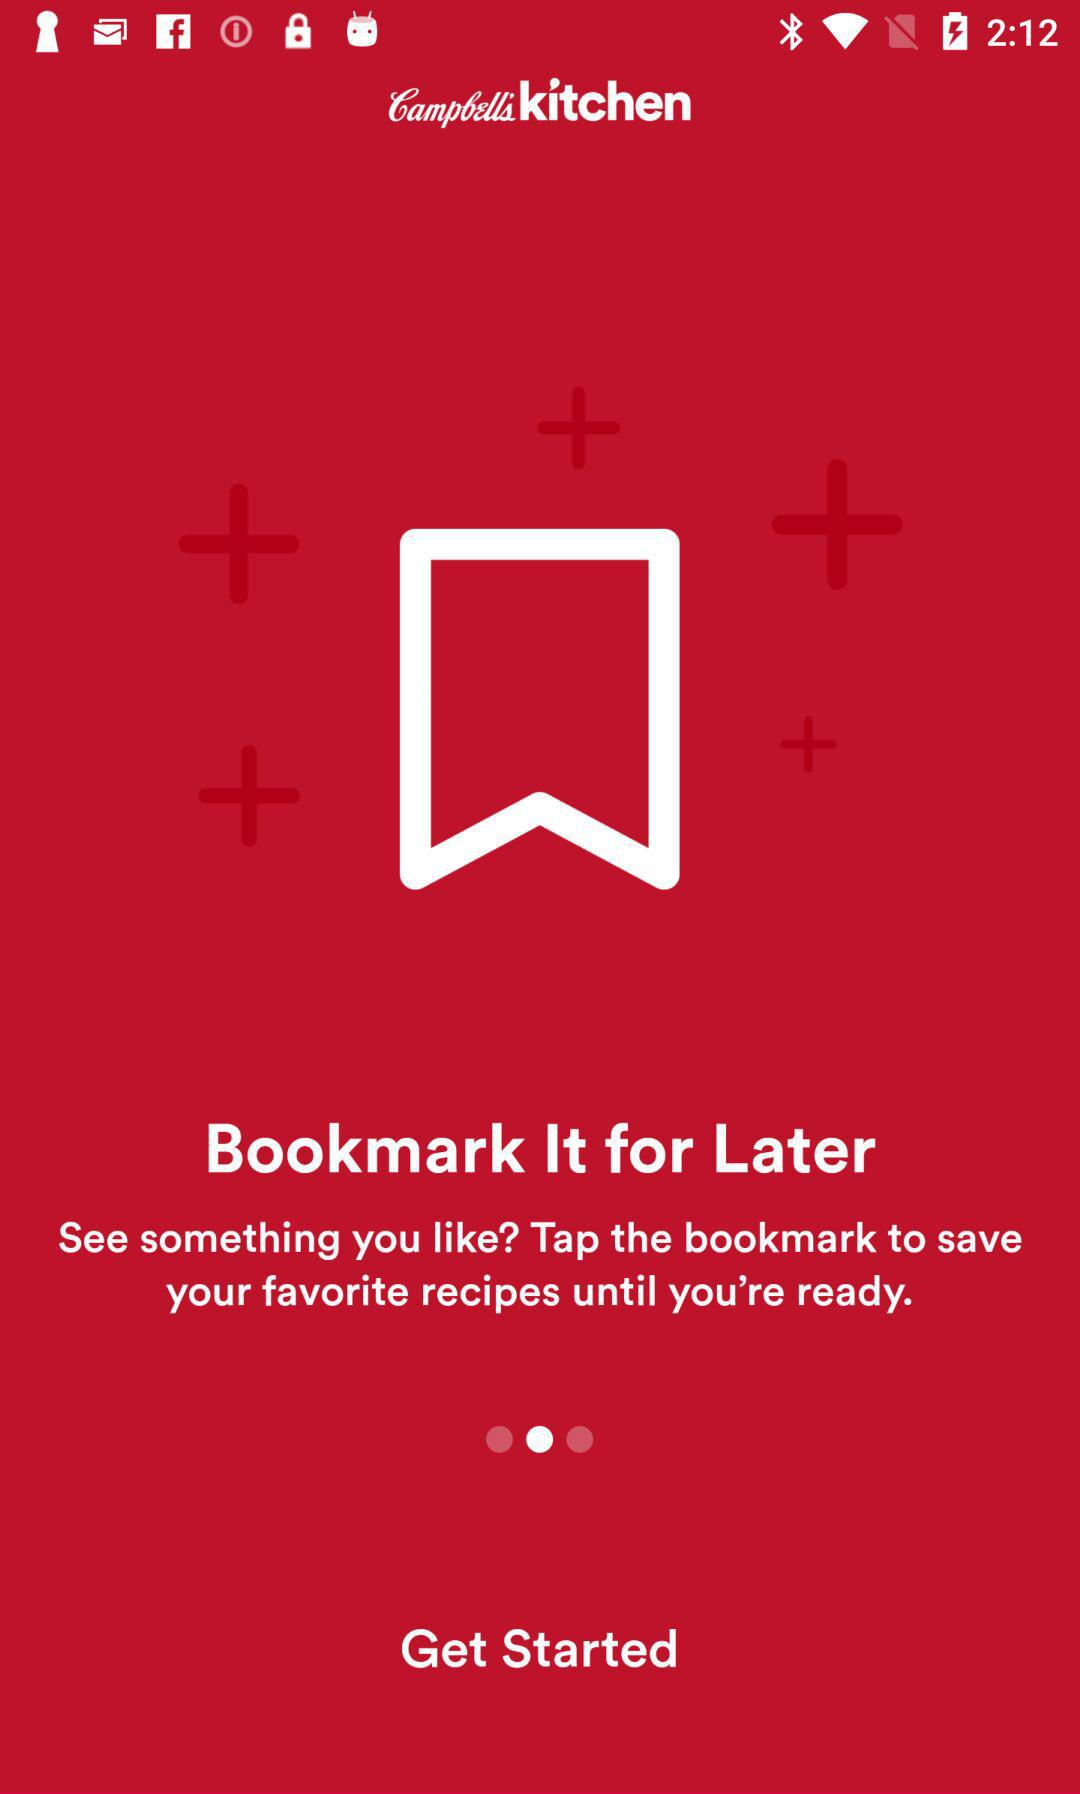Image: (178, 383, 904, 893), (387, 78, 693, 131)
PageIndicator: (484, 1424, 596, 1454)
Text: (56, 1217, 1024, 1319), (208, 1120, 878, 1176), (401, 1627, 678, 1670)
UpperTaskBar: (1, 1, 1080, 56)
